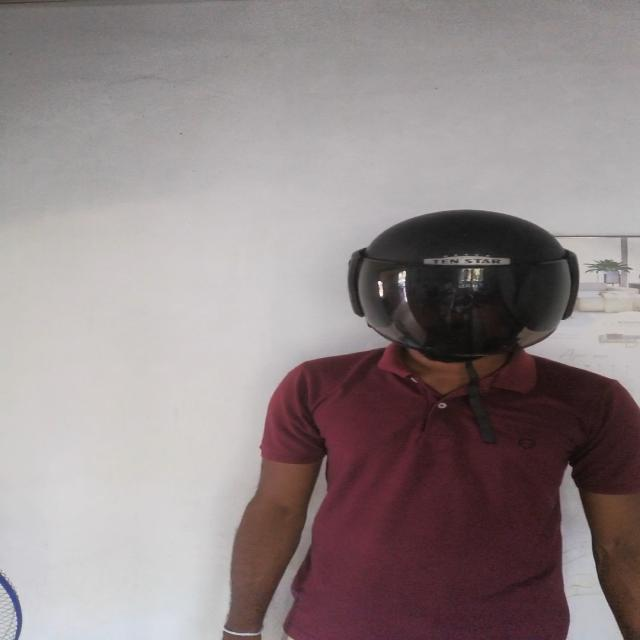Helmet_Wearer: (310, 207, 600, 398)
